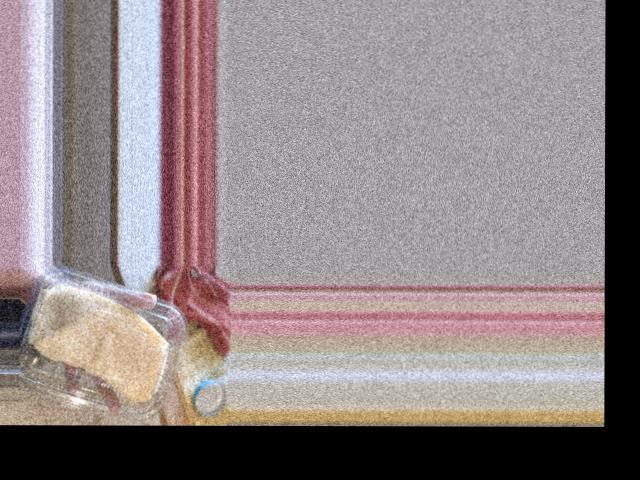cheese: (17, 276, 190, 416)
